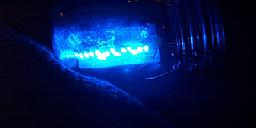LED: (55, 40, 162, 69)
